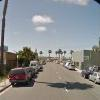Car: (9, 58, 41, 90)
